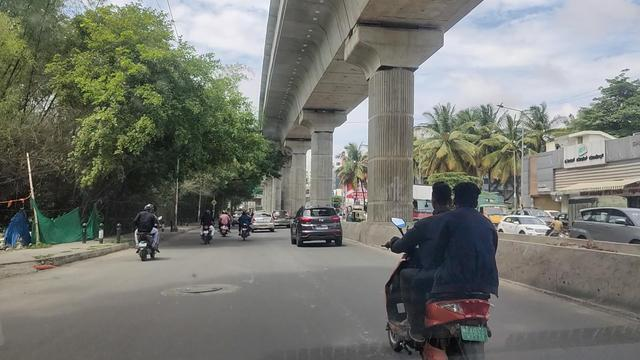LMV: (377, 176, 508, 360), (287, 205, 345, 250), (135, 196, 161, 264), (239, 207, 257, 243), (200, 206, 216, 246)
RoadDamages: (162, 284, 240, 297)
